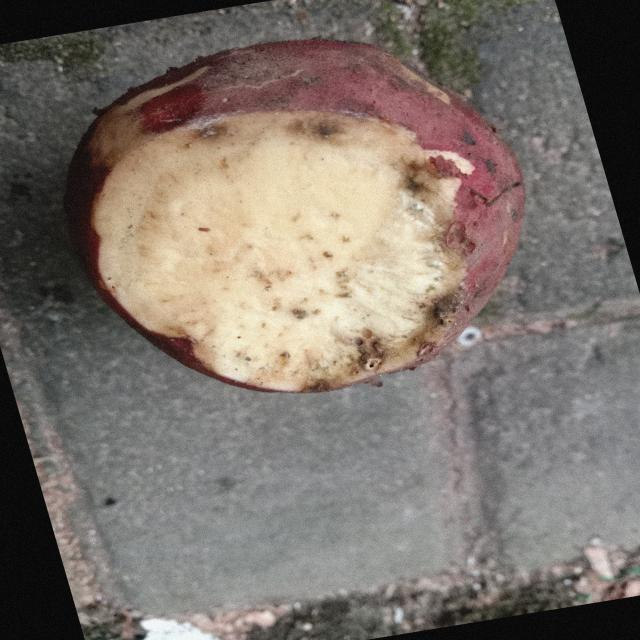Sick Sweet Potato_Tuber Rot: (93, 111, 465, 391)
